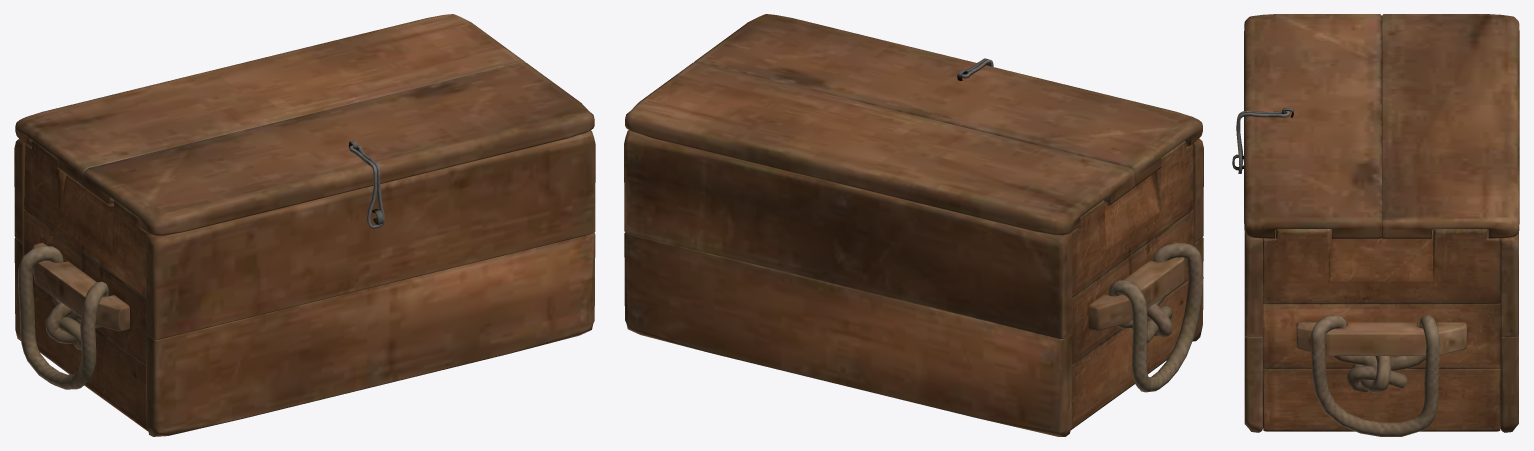
File: wooden_crate_01.glb
The picture shows the model from 3 angles, left to right: view 1: azimuth 30°, elevation 25°; view 2: azimuth 150°, elevation 25°; view 3: azimuth 270°, elevation 25°; orthographic projection. The views are drawn at different scales.
Parts seen in each view (by area): view 1: wooden_crate_01, wooden_crate_01_lid, wooden_crate_01_latch; view 2: wooden_crate_01, wooden_crate_01_lid; view 3: wooden_crate_01_lid, wooden_crate_01, wooden_crate_01_latch.
Boxes of the visible parts, x1,y1,x2,y2 form: wooden_crate_01: (14, 130, 595, 436); wooden_crate_01_lid: (15, 14, 594, 236); wooden_crate_01_latch: (349, 145, 384, 228); wooden_crate_01: (624, 130, 1203, 436); wooden_crate_01_lid: (625, 14, 1202, 235); wooden_crate_01_lid: (1244, 14, 1519, 238); wooden_crate_01: (1232, 154, 1518, 436); wooden_crate_01_latch: (1236, 111, 1289, 173).
Size of the model in its own units: 0.8253 by 0.3496 by 0.409.
Materials: 1 (1 with a texture image).
